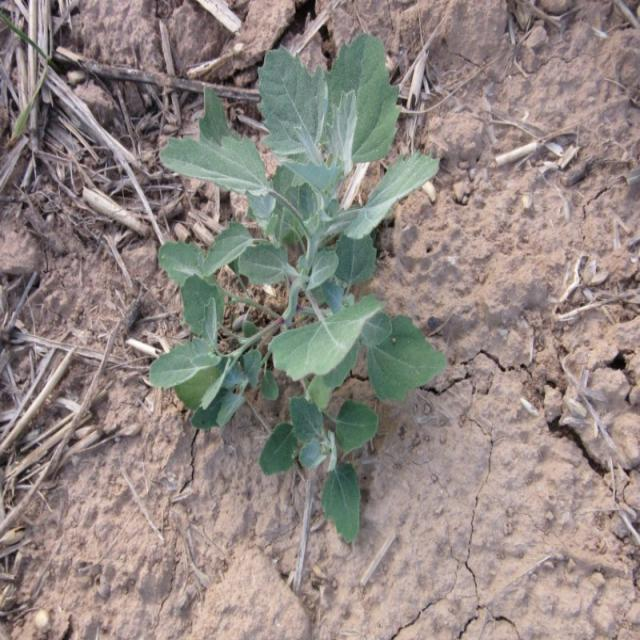ca: (165, 41, 443, 473)
